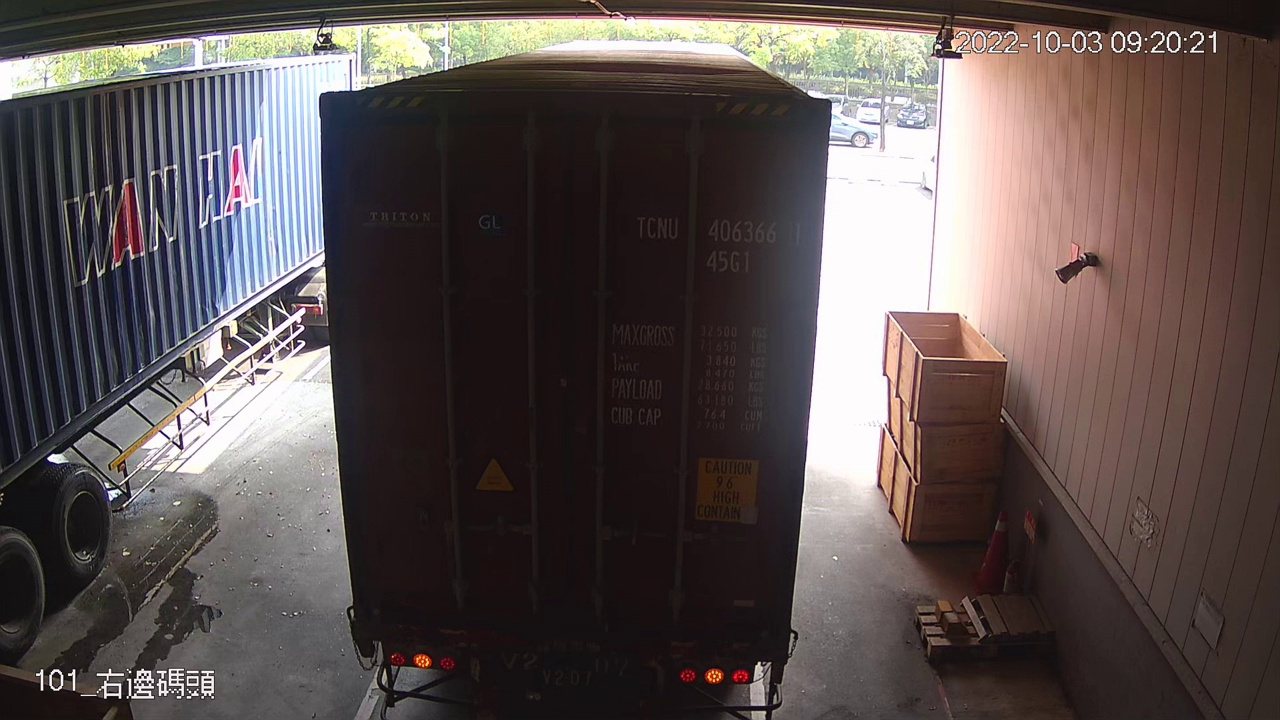container: (628, 204, 811, 278)
